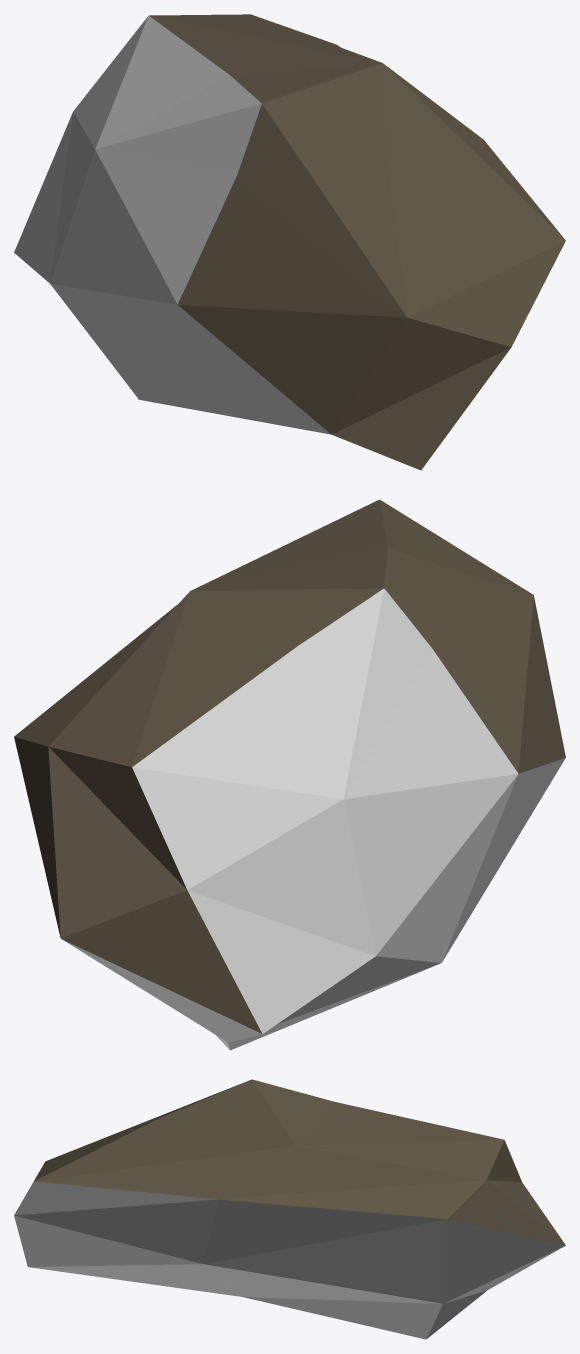
Rendered from TPL_EVT_BRIDGESTONE_02.OBJ.
The picture shows the model from 3 angles, top to bottom: view 1: azimuth 30°, elevation 25°; view 2: azimuth 150°, elevation 25°; view 3: azimuth 270°, elevation 25°; orthographic projection. The views are drawn at different scales.
Visible parts, largest first — view 1: TPL_EVT_BRIDGESTONE_02; view 2: TPL_EVT_BRIDGESTONE_02; view 3: TPL_EVT_BRIDGESTONE_02.
Boxes of the visible parts, x1,y1,x2,y2 form: TPL_EVT_BRIDGESTONE_02: (14,14,565,470); TPL_EVT_BRIDGESTONE_02: (14,499,565,1050); TPL_EVT_BRIDGESTONE_02: (14,1079,565,1339).
Bounding box in the file's own units: 4.24 × 4.48 × 8.9.
